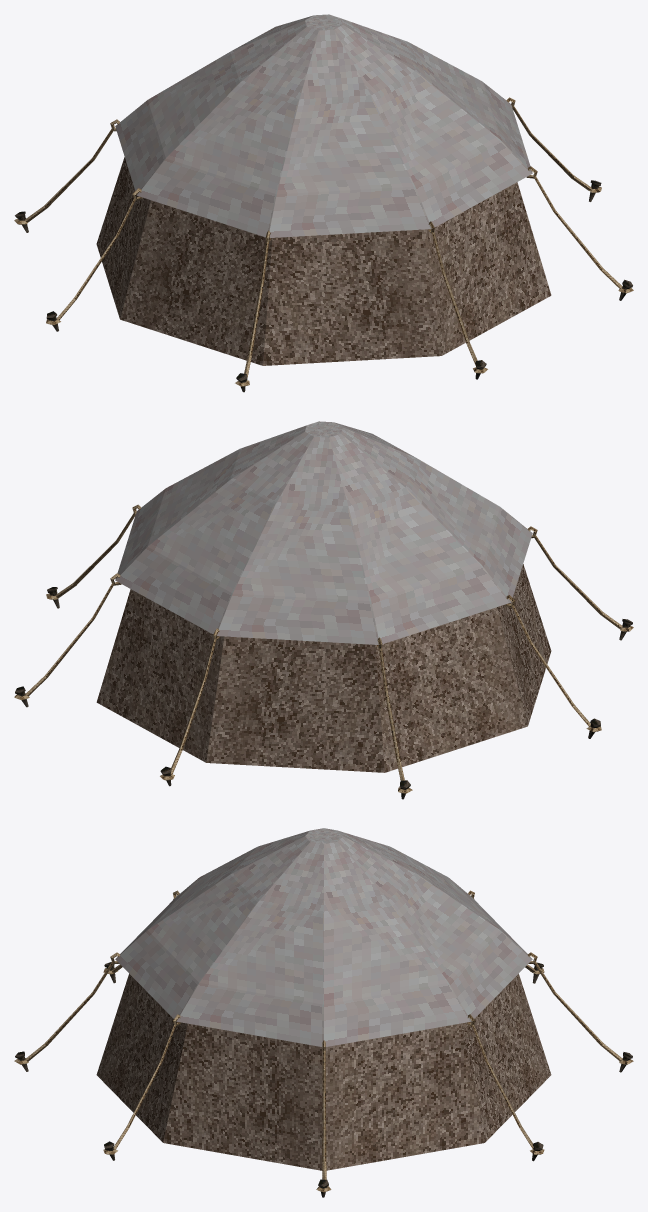
Rendered from hay_covered_dry.glb.
The picture shows the model from 3 angles, top to bottom: view 1: azimuth 30°, elevation 25°; view 2: azimuth 150°, elevation 25°; view 3: azimuth 270°, elevation 25°; orthographic projection. The views are drawn at different scales.
Visible parts, largest first — view 1: hay_covered_dry; view 2: hay_covered_dry; view 3: hay_covered_dry.
Part boxes in pixels (x1,y1,x2,y2): hay_covered_dry: [14, 14, 633, 392]; hay_covered_dry: [14, 421, 633, 799]; hay_covered_dry: [14, 828, 633, 1197].
Size of the model in its own units: 5.45 by 2.32 by 5.45.
2 materials, 2 textured.
